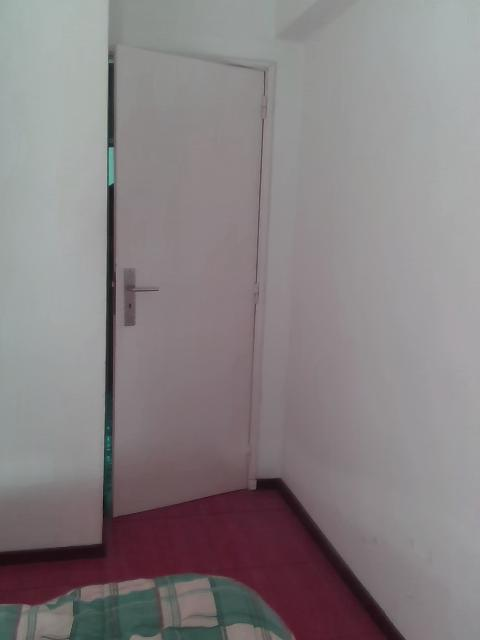closed_door: (104, 45, 277, 520)
